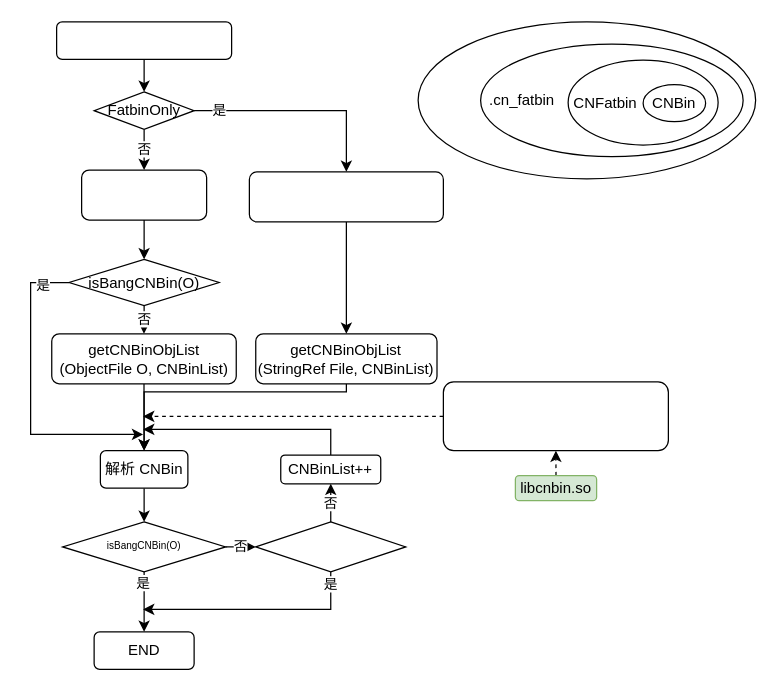
Image size: 778x691. Some labels were removed from this diagram. Here are the shapes that lost their labels. From the top down, the box of each, then its label:
(55, 21, 232, 59): host elf/CNFatbin/CNBin
(417, 21, 756, 179): host elf
(80, 169, 207, 220): dumpObject (ObjectFile O)
(248, 171, 443, 222): parseInputBangCNFatbin (StringRef File)
(442, 381, 668, 451): libcnbin_get_cnbin_from_fatbin (binary, size, cnbin, cnbin_size, cnbin_num)
(254, 521, 406, 572): CNBinList.end()
